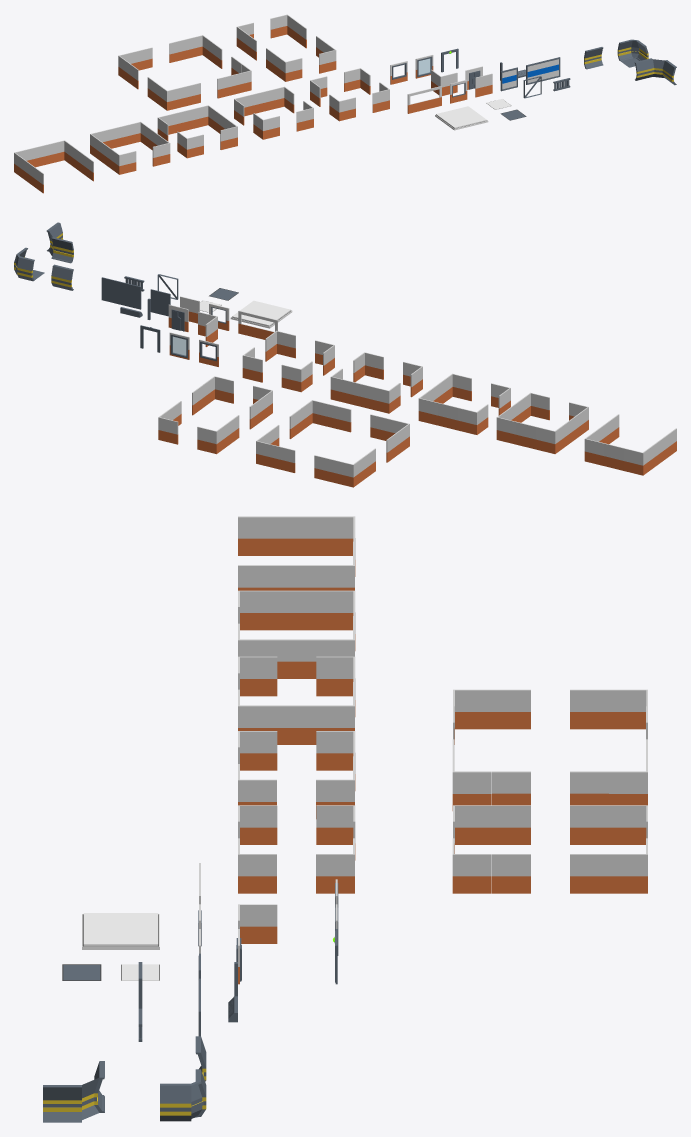
File: level_assets.glb
3 views of the same model, one above another, from view 1: azimuth 30°, elevation 25°; view 2: azimuth 150°, elevation 25°; view 3: azimuth 270°, elevation 25° (orthographic). The views are drawn at different scales.
Parts seen in each view (by area): view 1: Wall.011, Wall.010, Room.003, Room.002, Room.001, Room.004, Room, Floor.001, Cube.006, Wall.006, Cube.003, WallCorner (+4 smaller); view 2: Wall.011, Wall.010, Room.003, Room.002, Room.001, Room.004, Room, Wall.006, Floor.001, Cube.006, WallCorner, Wall.007 (+3 smaller); view 3: Wall.010, Wall.011, Room.003, Room.004, Room.002, Room, Room.001, Floor.001, Cube.006, Cube.003, WallCorner.
Part boxes in pixels (<box>): Wall.011: <box>118,35,251,110</box>; Wall.010: <box>236,14,336,81</box>; Room.003: <box>90,121,170,174</box>; Room.002: <box>157,105,237,158</box>; Room.001: <box>234,86,313,139</box>; Room.004: <box>14,140,93,193</box>; Room: <box>310,68,389,121</box>; Floor.001: <box>435,106,488,130</box>; Cube.006: <box>634,58,676,85</box>; Wall.006: <box>526,57,560,84</box>; Cube.003: <box>617,39,648,61</box>; WallCorner: <box>431,69,457,95</box>; Wall.011: <box>256,400,409,487</box>; Wall.010: <box>158,376,272,454</box>; Room.003: <box>496,392,588,453</box>; Room.002: <box>418,373,510,434</box>; Room.001: <box>330,352,422,413</box>; Room.004: <box>584,414,676,475</box>; Room: <box>242,330,334,392</box>; Wall.006: <box>101,277,141,309</box>; Floor.001: <box>230,300,292,328</box>; Cube.006: <box>46,222,73,263</box>; WallCorner: <box>198,312,217,346</box>; Wall.007: <box>169,332,189,359</box>; Wall.010: <box>452,805,647,893</box>; Wall.011: <box>452,689,647,810</box>; Room.003: <box>238,590,355,678</box>; Room.004: <box>238,516,355,590</box>; Room.002: <box>238,656,355,744</box>; Room: <box>238,805,355,893</box>; Room.001: <box>238,731,355,818</box>; Floor.001: <box>82,913,159,949</box>; Cube.006: <box>43,1061,104,1122</box>; Cube.003: <box>160,1069,206,1121</box>; WallCorner: <box>238,904,277,943</box>.
Size of the model in its own units: 69.27 by 2.23 by 31.
